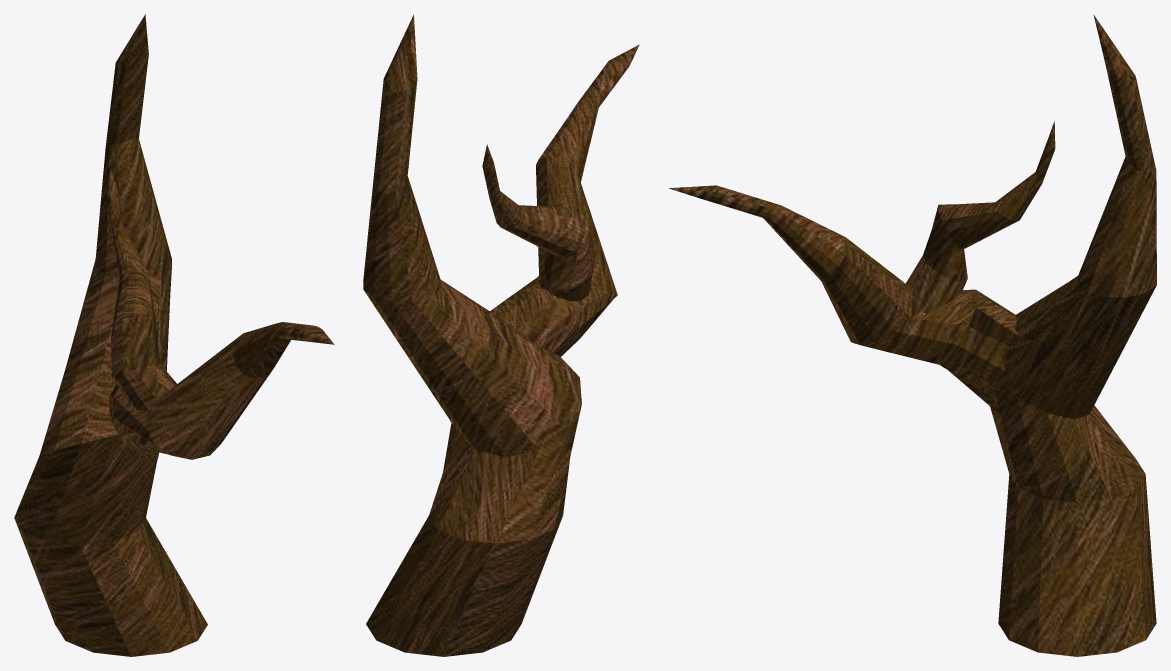
Rendered from tree.glb.
The picture shows the model from 3 angles, left to right: view 1: azimuth 30°, elevation 25°; view 2: azimuth 150°, elevation 25°; view 3: azimuth 270°, elevation 25°; orthographic projection. The views are drawn at different scales.
Parts seen in each view (by area): view 1: Tree; view 2: Tree; view 3: Tree.
Boxes of the visible parts, left/top/right/bottom form: Tree: left=14, top=14, right=334, bottom=656; Tree: left=363, top=14, right=639, bottom=656; Tree: left=669, top=14, right=1156, bottom=656.
Bounding box in the file's own units: 5.21 × 17.08 × 12.2.
1 material, 1 textured.
